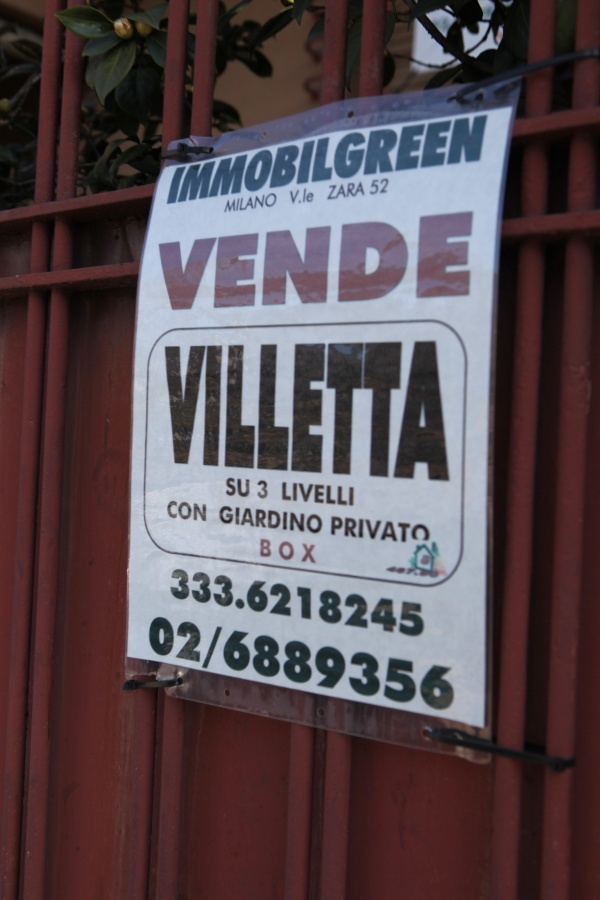text: (177, 345, 192, 489), (193, 345, 208, 489), (209, 345, 224, 489), (225, 345, 240, 489), (241, 345, 256, 489), (257, 345, 272, 489), (273, 345, 288, 489), (289, 345, 304, 489), (305, 345, 320, 489), (321, 345, 336, 489), (337, 345, 352, 489), (353, 345, 368, 489), (369, 345, 384, 489), (385, 345, 400, 489), (401, 345, 416, 489), (417, 345, 432, 489), (433, 345, 448, 489), (164, 345, 176, 489), (161, 209, 176, 317), (177, 209, 192, 317), (193, 209, 208, 317), (209, 209, 224, 317), (225, 209, 240, 317), (241, 209, 256, 317), (257, 209, 272, 317), (273, 209, 288, 317), (289, 209, 304, 317), (305, 209, 320, 317), (321, 209, 336, 317), (337, 209, 352, 317), (353, 209, 368, 317), (369, 209, 384, 317), (385, 209, 400, 317), (401, 209, 416, 317), (417, 209, 432, 317), (433, 209, 448, 317), (449, 209, 464, 317), (177, 115, 192, 208), (193, 115, 208, 208), (209, 115, 224, 208), (225, 115, 240, 208), (241, 115, 256, 208), (257, 115, 272, 208), (273, 115, 288, 208), (289, 115, 304, 208), (305, 115, 320, 208), (321, 115, 336, 208), (337, 115, 352, 208), (353, 115, 368, 208), (369, 115, 384, 208), (385, 115, 400, 208), (401, 115, 416, 208), (417, 115, 432, 208), (433, 115, 448, 208), (449, 115, 464, 208), (465, 115, 480, 208), (241, 627, 256, 713), (257, 627, 272, 713), (273, 627, 288, 713), (289, 627, 304, 713), (305, 627, 320, 713), (321, 627, 336, 713), (337, 627, 352, 713), (353, 627, 368, 713), (369, 627, 384, 713), (385, 627, 400, 713), (401, 627, 416, 713), (417, 627, 432, 713), (433, 627, 448, 713), (257, 579, 272, 639), (273, 579, 288, 639), (289, 579, 304, 639), (305, 579, 320, 639), (321, 579, 336, 639), (337, 579, 352, 639), (353, 579, 368, 639), (369, 579, 384, 639), (385, 579, 400, 639), (401, 579, 416, 639), (465, 209, 473, 317), (231, 627, 240, 713), (161, 613, 176, 664), (177, 613, 192, 664), (481, 115, 488, 208), (177, 568, 192, 609), (193, 568, 208, 609), (209, 568, 224, 609), (209, 627, 222, 670), (225, 503, 240, 535), (241, 503, 256, 535), (257, 503, 272, 535), (273, 503, 288, 535), (289, 503, 304, 535), (305, 503, 320, 535), (417, 579, 425, 639), (151, 613, 160, 664), (449, 627, 454, 713), (249, 579, 256, 639), (193, 613, 201, 664), (177, 497, 192, 523), (337, 516, 352, 542), (353, 516, 368, 542), (369, 516, 384, 542), (385, 516, 400, 542), (401, 516, 416, 542), (289, 481, 304, 506), (305, 481, 320, 506), (321, 481, 336, 506), (337, 481, 352, 506), (273, 540, 288, 563), (289, 540, 304, 563), (193, 497, 206, 523), (417, 516, 430, 542), (241, 192, 256, 214), (257, 192, 272, 214), (225, 568, 233, 609), (449, 345, 451, 489), (226, 478, 240, 498), (258, 480, 272, 500), (337, 183, 352, 201), (228, 192, 240, 214), (261, 540, 272, 563), (290, 187, 304, 205), (305, 540, 315, 563), (353, 183, 365, 201), (203, 627, 208, 670), (373, 177, 384, 196), (168, 497, 176, 523), (241, 478, 250, 498), (172, 568, 176, 609), (305, 187, 314, 205), (220, 503, 224, 535), (283, 481, 288, 506), (330, 183, 336, 201), (332, 516, 336, 542), (385, 177, 390, 196), (273, 192, 277, 214), (236, 600, 240, 609), (241, 600, 245, 609), (321, 503, 322, 535), (353, 481, 354, 506)
